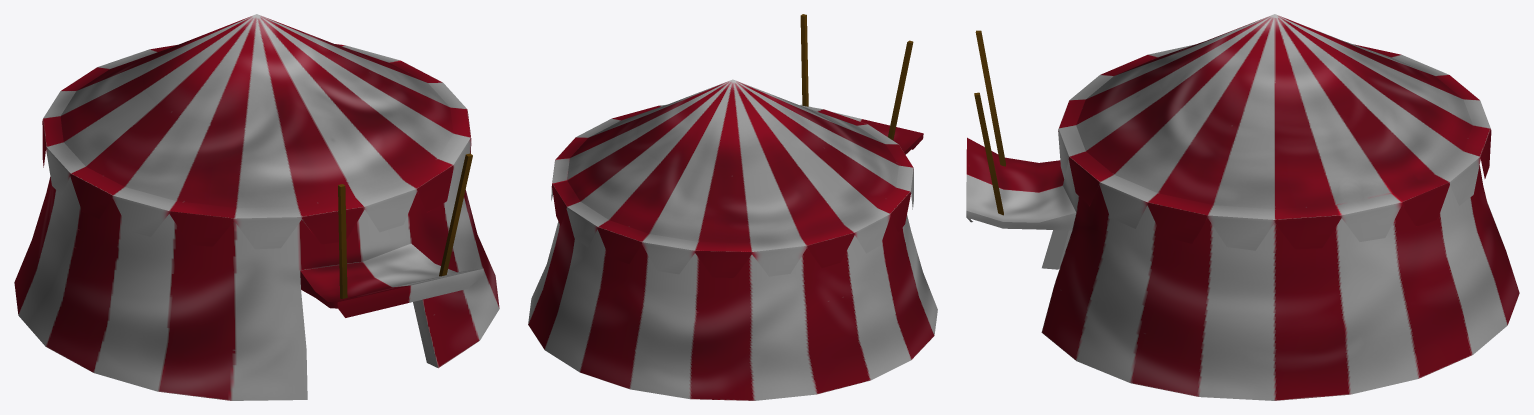
The model's file is carpa.obj.
3 renders of one model, left to right at view 1: azimuth 30°, elevation 25°; view 2: azimuth 150°, elevation 25°; view 3: azimuth 270°, elevation 25°, orthographic. The views are drawn at different scales.
Visible parts, largest first — view 1: pCylinder1, pCube3; view 2: pCylinder1, pCube3; view 3: pCylinder1, pCube3.
Part boxes in pixels (bbox=[...]): pCylinder1: bbox=[14, 14, 499, 400]; pCube3: bbox=[338, 153, 472, 298]; pCylinder1: bbox=[528, 79, 937, 400]; pCube3: bbox=[800, 14, 913, 140]; pCylinder1: bbox=[966, 14, 1519, 400]; pCube3: bbox=[974, 30, 1005, 215].
Size of the model in its own units: 9.31 by 6.01 by 10.51.
